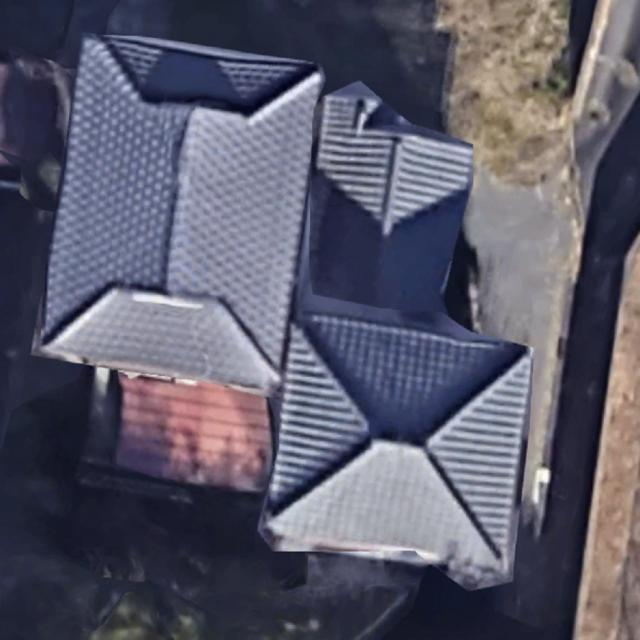Batiment: (261, 83, 531, 588), (38, 35, 324, 394)
